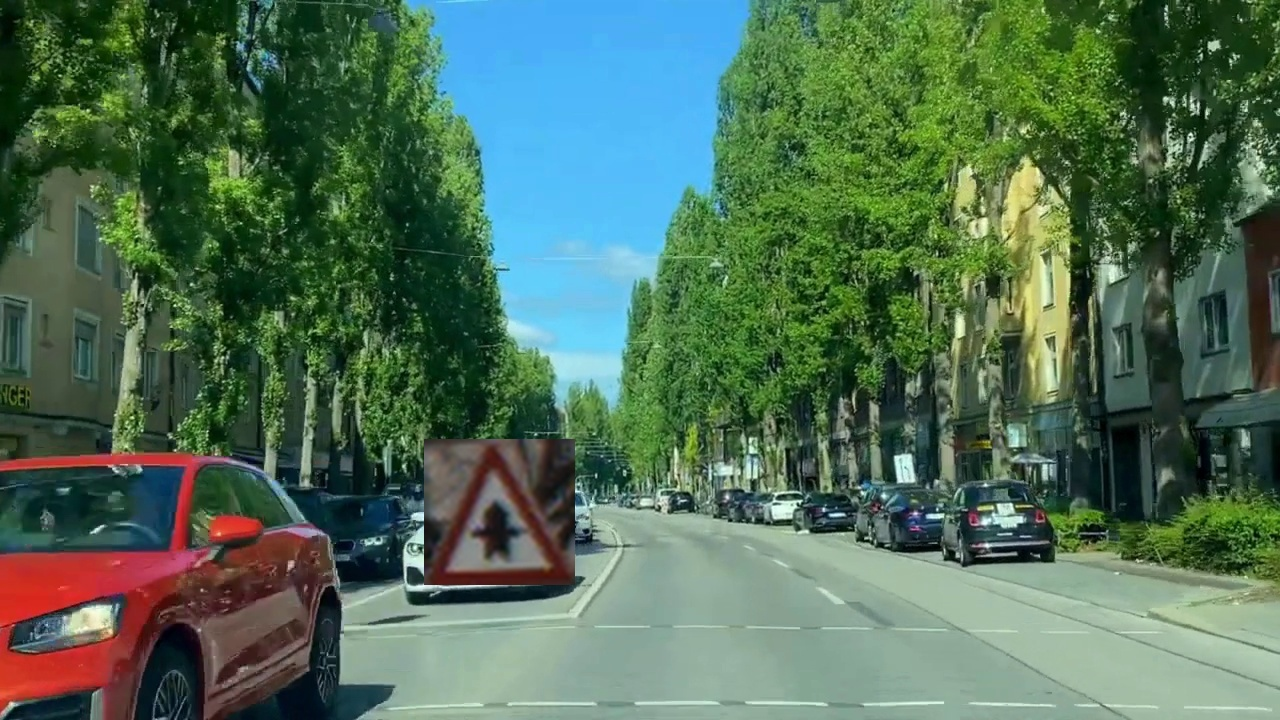Right-of-way: (424, 439, 575, 585)
